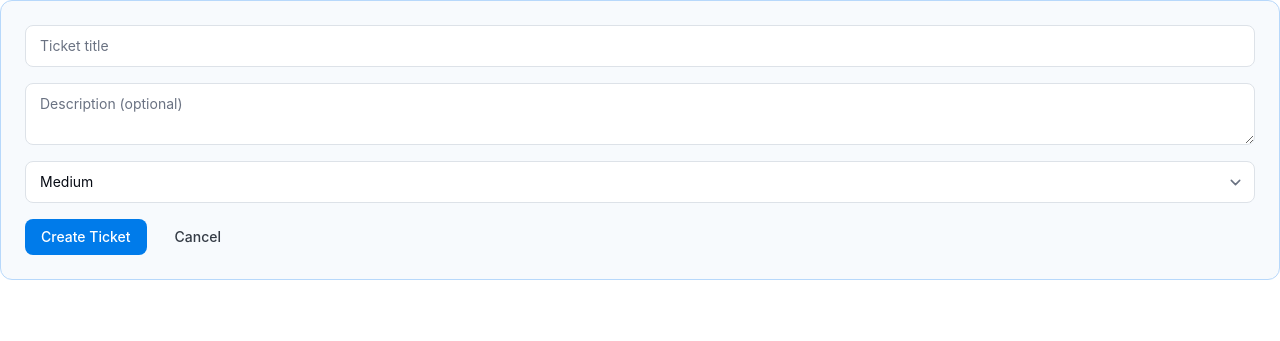
NewTicketForm.svelte › shows error message on API failure
The width and height of the screenshot is (1280, 341).
In the field with placeholder "Ticket title": (640,46) [25,25,1255,67], type "My ticket"
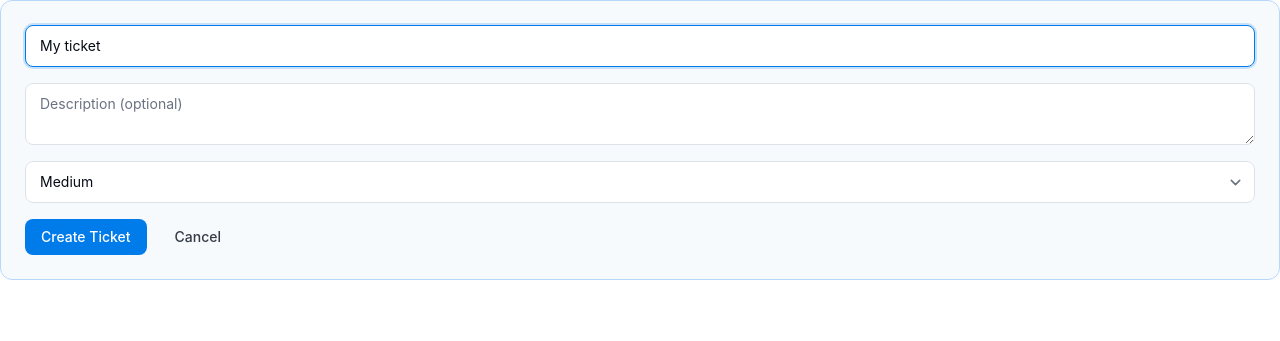
Click the button "Create Ticket": (86,237) [25,219,147,255]
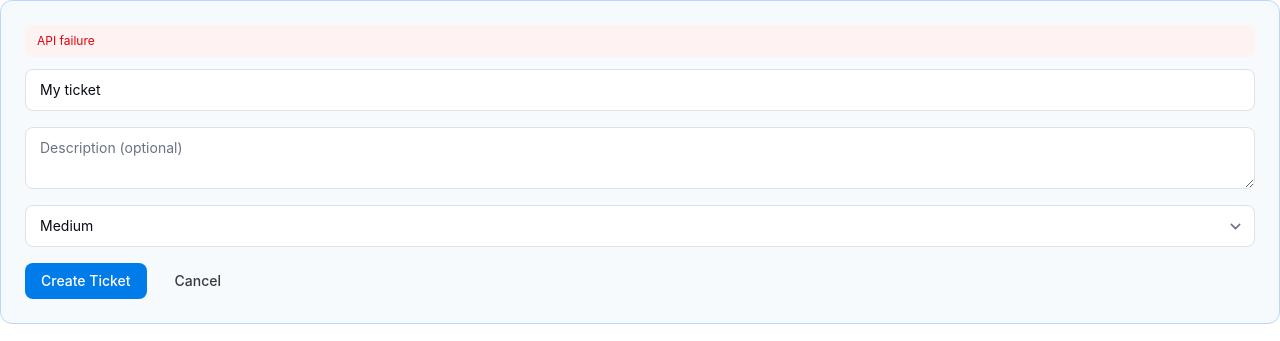
Expected: the text "API failure" is shown, [25,25,1255,57]
